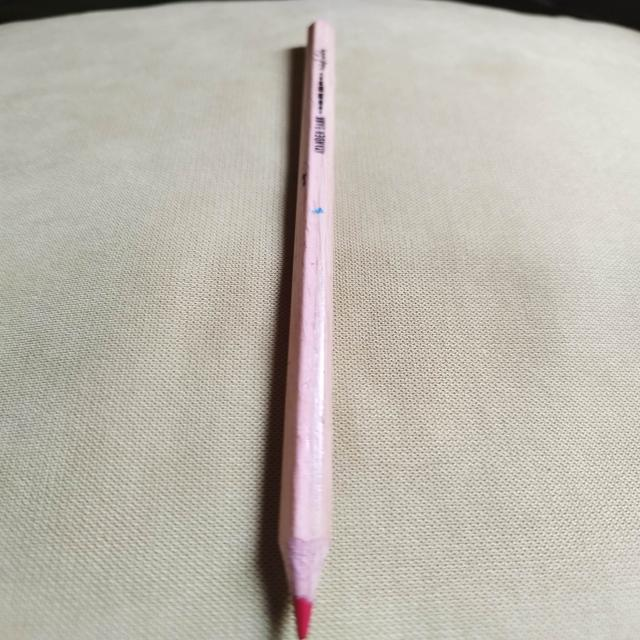pencil: (278, 19, 336, 638)
